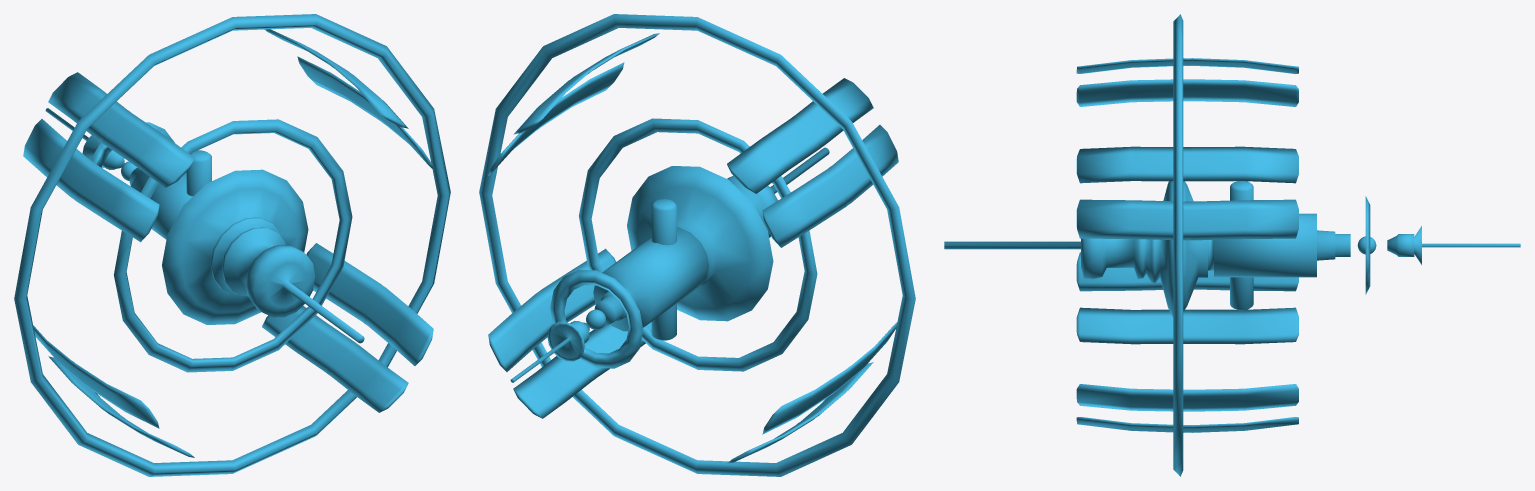
Rendered from Station.glb.
3 views of the same model, side by side, from view 1: azimuth 30°, elevation 25°; view 2: azimuth 150°, elevation 25°; view 3: azimuth 270°, elevation 25° (orthographic). The views are drawn at different scales.
Parts seen in each view (by area): view 1: Cube; view 2: Cube; view 3: Cube.
Part boxes in pixels (left/top/right/bottom): Cube: left=14, top=14, right=450, bottom=476; Cube: left=479, top=14, right=915, bottom=476; Cube: left=944, top=14, right=1520, bottom=476.
Size of the model in its own units: 5.13 by 5.13 by 6.38.
